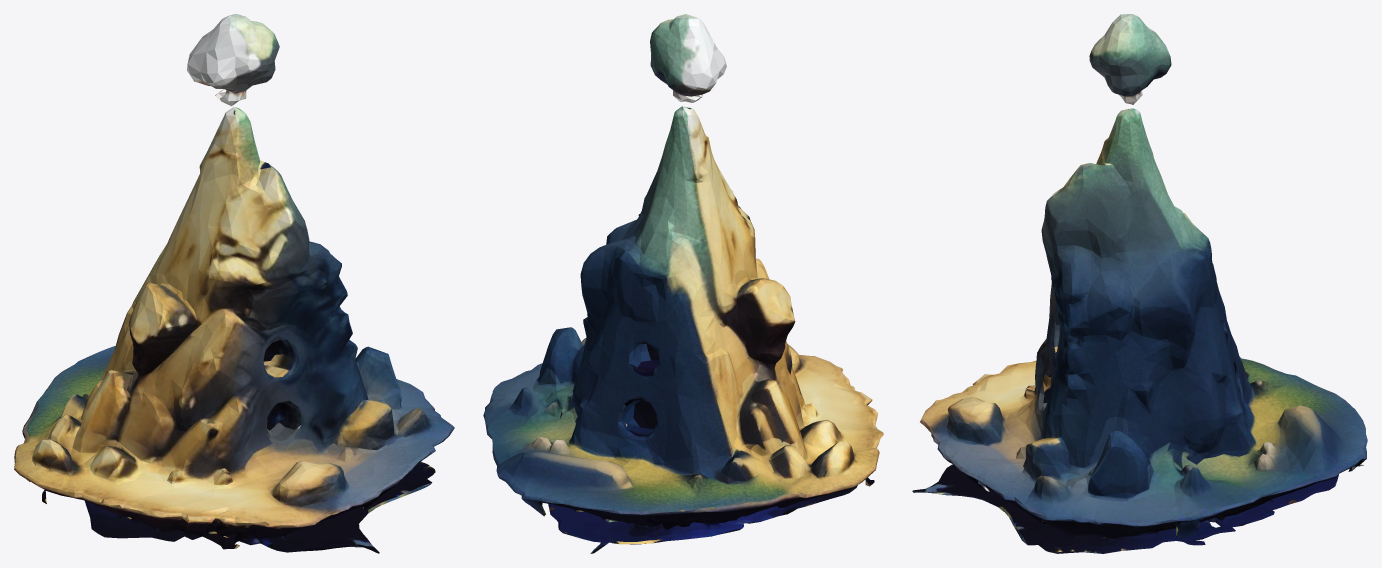
Rendered from geyser.glb.
3 renders of one model, left to right at view 1: azimuth 30°, elevation 25°; view 2: azimuth 150°, elevation 25°; view 3: azimuth 270°, elevation 25°, orthographic. The views are drawn at different scales.
Visible parts, largest first — view 1: tmptmqbuf8n.ply; view 2: tmptmqbuf8n.ply; view 3: tmptmqbuf8n.ply.
Part boxes in pixels (x1=…): tmptmqbuf8n.ply: x1=14, y1=14, x2=454, y2=553; tmptmqbuf8n.ply: x1=483, y1=14, x2=883, y2=553; tmptmqbuf8n.ply: x1=912, y1=14, x2=1367, y2=553.
Bounding box in the file's own units: 1.73 × 2 × 1.78.
Materials: 1 (1 with a texture image).
